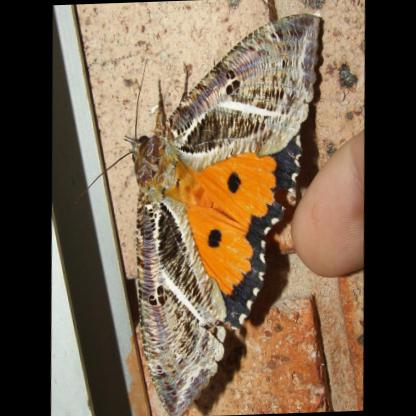fruit sucking moth: (126, 12, 323, 416)
